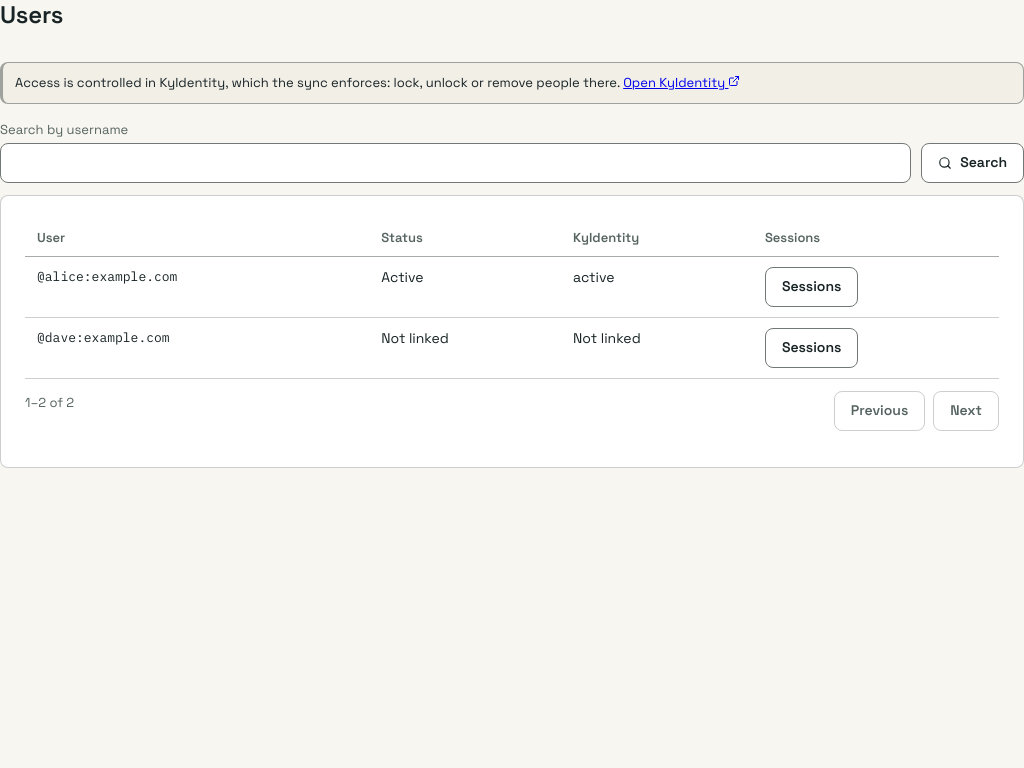
Test: Users › ends one session
Click the button with aria-label "Sessions for alice": click(812, 286) [765,266,858,306]
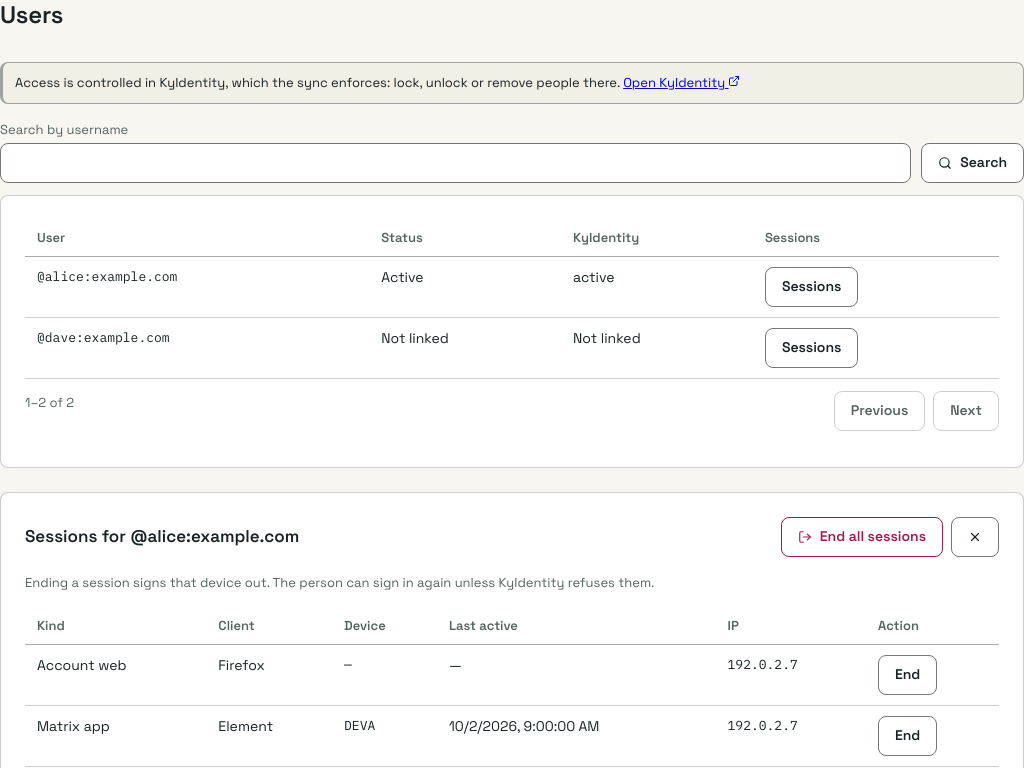
Check: the text "DEVA" is shown, box [332,705,437,766]
Check: the text "192.0.2.7" is shown 2 times, box [716,644,866,705]; [716,705,866,766]
Click the button with aria-label "End Matrix app session DEVA": click(908, 736) [878,716,937,756]
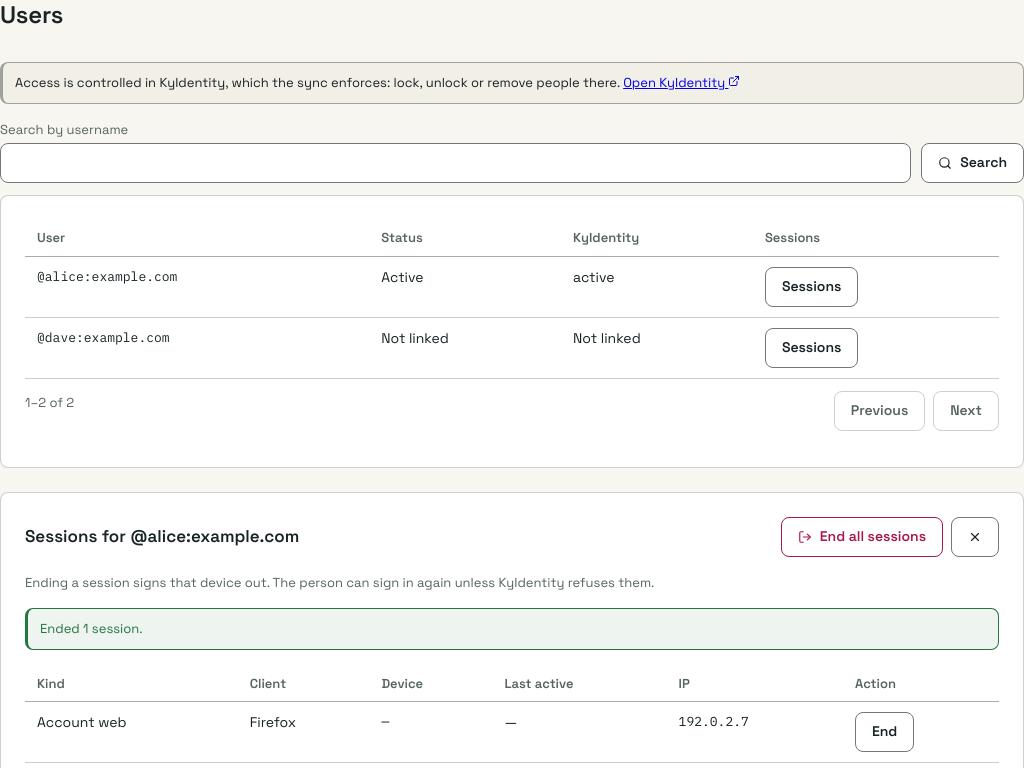
Check: the text "Ended 1 session." is shown, box [40,619,143,638]
Check: the text "DEVA" is gone
